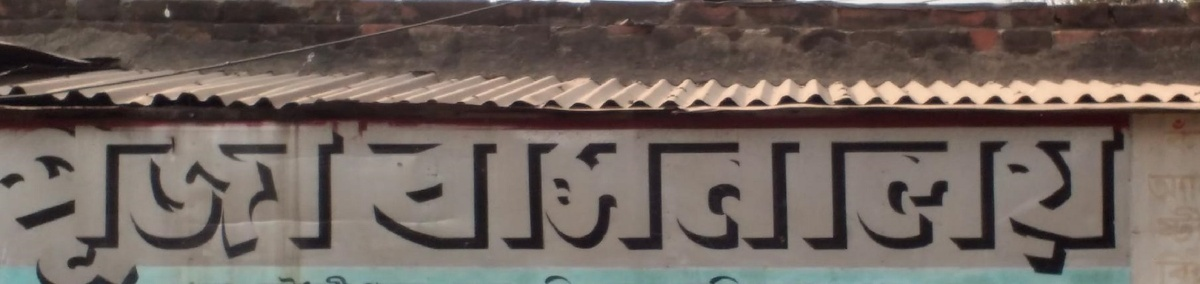text: (17, 107, 32, 284), (33, 107, 48, 284), (49, 107, 64, 284), (65, 107, 80, 284), (81, 107, 96, 284), (97, 107, 112, 284), (113, 107, 128, 284), (129, 107, 144, 284), (145, 107, 160, 284), (161, 107, 176, 284), (177, 107, 192, 284), (193, 107, 208, 284), (209, 107, 224, 284), (225, 107, 240, 284), (241, 107, 256, 284), (257, 107, 272, 284), (273, 107, 288, 284), (289, 107, 304, 284), (305, 107, 320, 284), (321, 107, 336, 284), (2, 107, 16, 284), (337, 107, 351, 284), (369, 120, 384, 280), (385, 120, 400, 280), (401, 120, 416, 280), (417, 120, 432, 280), (433, 120, 448, 280), (449, 120, 464, 280), (465, 120, 480, 280), (481, 120, 496, 280), (497, 120, 512, 280), (513, 120, 528, 280), (529, 120, 544, 280), (545, 120, 560, 280), (561, 120, 576, 280), (577, 120, 592, 280), (593, 120, 608, 280), (609, 120, 624, 280), (625, 120, 640, 280), (641, 120, 656, 280), (657, 120, 672, 280), (673, 120, 688, 280), (689, 120, 704, 280), (705, 120, 720, 280), (721, 120, 736, 280), (737, 120, 752, 280), (753, 120, 768, 280), (769, 120, 784, 280), (785, 120, 800, 280), (801, 120, 816, 280), (817, 120, 832, 280), (833, 120, 848, 280), (849, 120, 864, 280), (865, 120, 880, 280), (881, 120, 896, 280), (897, 120, 912, 280), (913, 120, 928, 280), (929, 120, 944, 280), (945, 120, 960, 280), (961, 120, 976, 280), (977, 120, 992, 280), (993, 120, 1008, 280), (1009, 120, 1024, 280), (1025, 120, 1040, 280), (1041, 120, 1056, 280), (1057, 120, 1072, 280), (1073, 120, 1088, 280), (1089, 120, 1104, 280), (1105, 120, 1120, 280), (1121, 120, 1136, 280), (1137, 120, 1152, 280), (1153, 167, 1168, 284), (1169, 167, 1184, 284), (1185, 167, 1197, 284), (362, 120, 368, 280), (1144, 167, 1152, 284), (1153, 120, 1158, 280), (1153, 119, 1168, 159), (1169, 119, 1184, 159), (1185, 119, 1199, 159), (705, 271, 720, 284), (721, 271, 736, 284), (273, 275, 288, 284), (289, 275, 304, 284), (305, 275, 320, 284), (321, 275, 336, 284), (337, 275, 352, 284), (353, 275, 368, 284), (369, 275, 384, 284), (545, 273, 560, 281), (1149, 119, 1152, 159), (696, 271, 704, 284), (561, 273, 571, 281), (737, 271, 742, 284), (271, 275, 272, 284), (385, 275, 386, 284)
